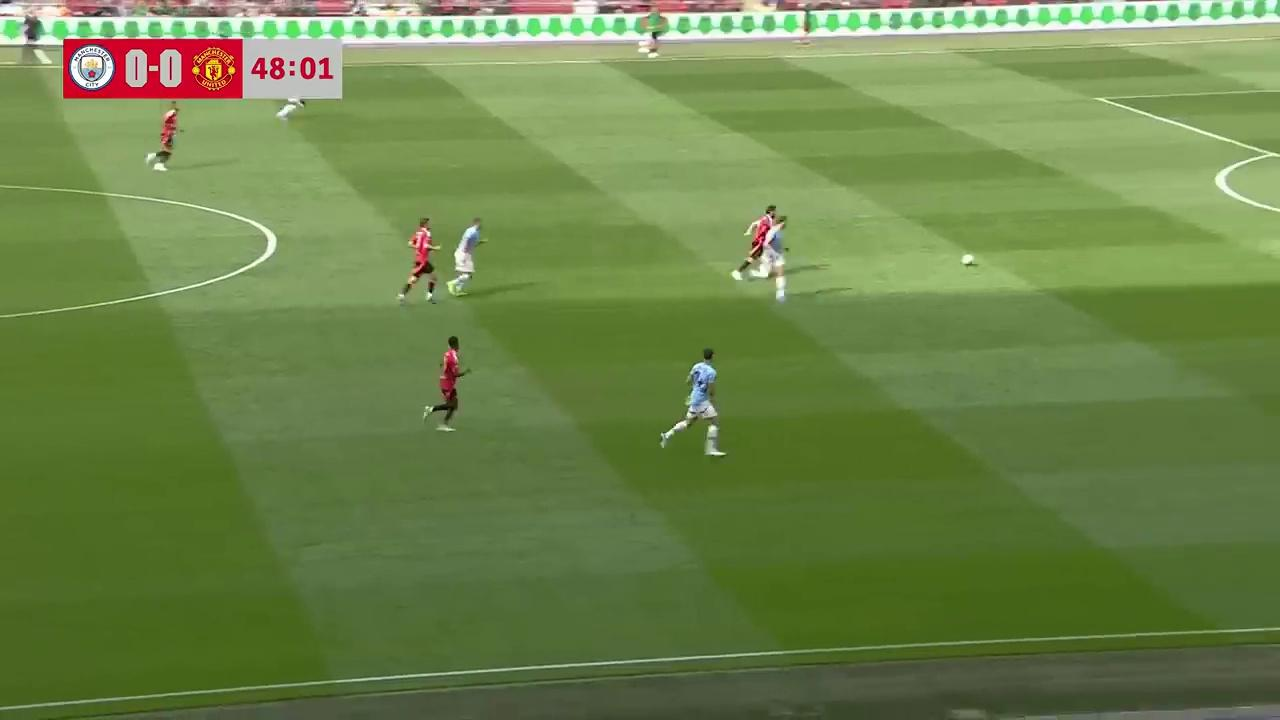ball: (961, 250, 980, 270)
player: (659, 349, 727, 457), (422, 335, 470, 432), (396, 218, 440, 305), (733, 206, 775, 284), (445, 216, 485, 296), (764, 210, 788, 303), (152, 103, 181, 169)
